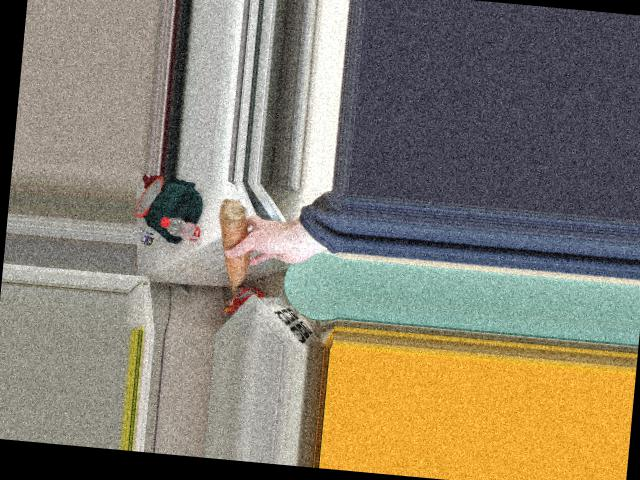sweet_potato: (220, 198, 251, 290)
